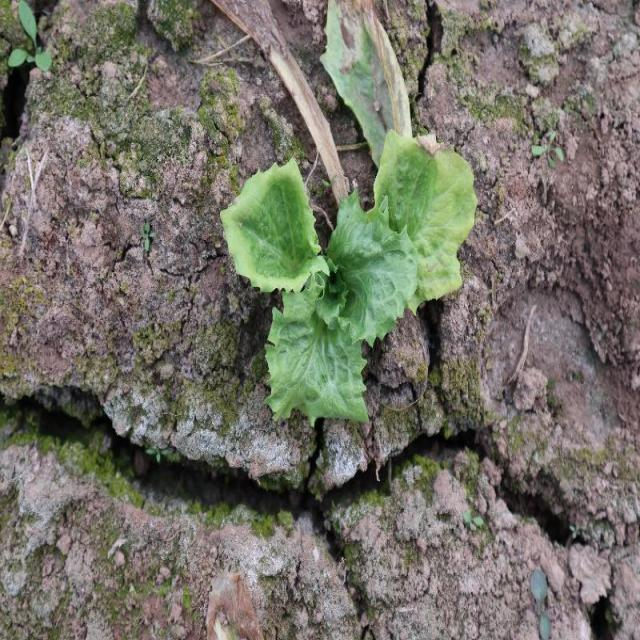crop: (222, 130, 477, 416)
